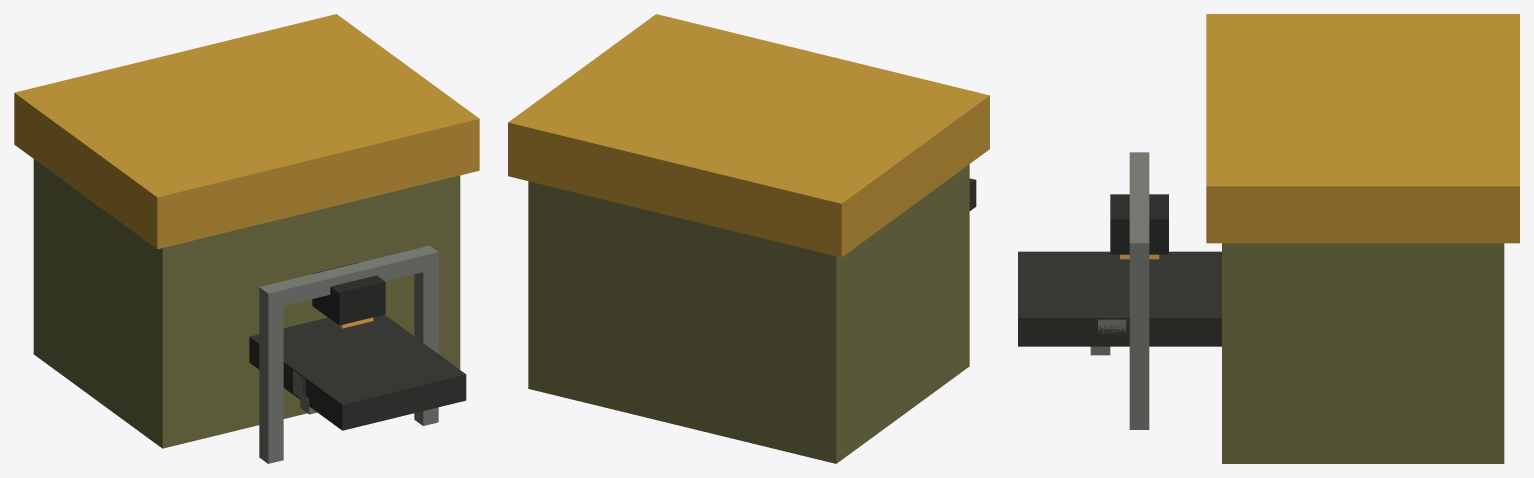
File: sorter.gltf
The picture shows the model from 3 angles, left to right: view 1: azimuth 30°, elevation 25°; view 2: azimuth 150°, elevation 25°; view 3: azimuth 270°, elevation 25°; orthographic projection. The views are drawn at different scales.
Parts seen in each view (by area): view 1: hopper, body, belt, gantryBar, gantryPostL, magnetBody, gantryPostR; view 2: body, hopper; view 3: hopper, body, belt, gantryPostR, magnetBody, gantryBar.
Part boxes in pixels (box(x1,y1,x2,y2)): hopper: box(14, 14, 479, 249); body: box(33, 159, 460, 448); belt: box(249, 314, 466, 430); gantryBar: box(259, 245, 438, 309); gantryPostL: box(259, 295, 283, 463); magnetBody: box(312, 262, 385, 325); gantryPostR: box(414, 260, 438, 425); body: box(528, 164, 969, 463); hopper: box(508, 14, 989, 257); hopper: box(1206, 14, 1519, 243); body: box(1222, 243, 1504, 463); belt: box(1018, 251, 1221, 346); gantryPostR: box(1129, 252, 1149, 429); magnetBody: box(1110, 194, 1168, 254); gantryBar: box(1129, 152, 1149, 261).
Size of the model in its own units: 2.6 by 2 by 3.2.
